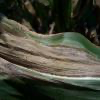Corn leaf blight: (1, 12, 99, 99)
